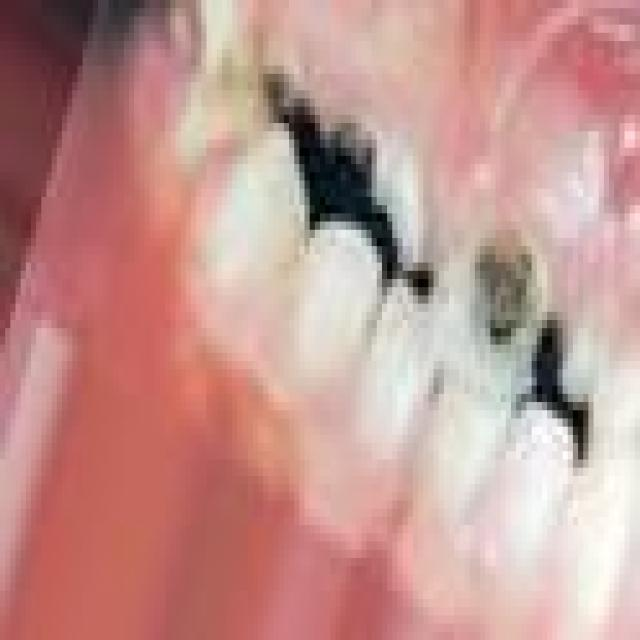caries: (424, 208, 563, 412), (337, 103, 429, 264), (256, 30, 316, 136)
